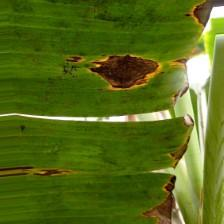cordana: (0, 0, 213, 224)
